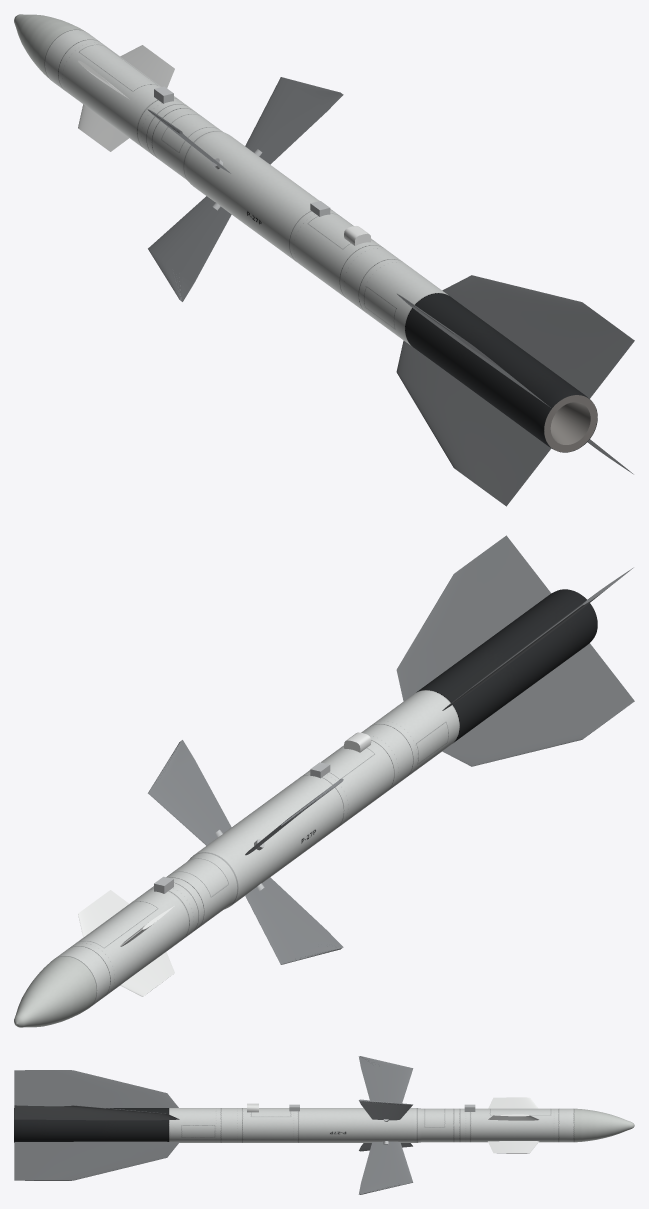
3 views of the same model, one above another, from view 1: azimuth 30°, elevation 25°; view 2: azimuth 150°, elevation 25°; view 3: azimuth 270°, elevation 25° (orthographic). The views are drawn at different scales.
Parts seen in each view (by area): view 1: body, tail_fin_2, tail_fin_0, control_fin_2, control_fin_0, nozzle, fwd_strake_2, fwd_strake_0, tail_fin_1; view 2: body, tail_fin_2, tail_fin_0, control_fin_0, control_fin_2, fwd_strake_2, fwd_strake_0, tail_fin_1; view 3: body, tail_fin_3, tail_fin_1, tail_fin_0, control_fin_3, control_fin_1, control_fin_0, fwd_strake_3, fwd_strake_1, fwd_strake_0.
Boxes of the visible parts, x1,y1,x2,y2 form: body: [14, 14, 597, 452]; tail_fin_2: [396, 340, 551, 506]; tail_fin_0: [442, 275, 634, 398]; control_fin_2: [148, 196, 231, 301]; control_fin_0: [245, 77, 343, 164]; nozzle: [544, 395, 597, 452]; fwd_strake_2: [78, 104, 128, 151]; fwd_strake_0: [120, 45, 174, 87]; tail_fin_1: [397, 293, 550, 407]; body: [14, 589, 597, 1027]; tail_fin_2: [442, 643, 634, 766]; tail_fin_0: [396, 535, 551, 701]; control_fin_0: [148, 740, 231, 845]; control_fin_2: [245, 877, 343, 964]; fwd_strake_2: [120, 951, 174, 996]; fwd_strake_0: [78, 890, 128, 937]; tail_fin_1: [442, 567, 633, 710]; body: [14, 1108, 634, 1142]; tail_fin_3: [14, 1141, 179, 1180]; tail_fin_1: [14, 1070, 178, 1107]; tail_fin_0: [14, 1104, 179, 1120]; control_fin_3: [358, 1141, 413, 1194]; control_fin_1: [358, 1056, 413, 1103]; control_fin_0: [359, 1099, 412, 1120]; fwd_strake_3: [488, 1141, 539, 1153]; fwd_strake_1: [488, 1097, 538, 1108]; fwd_strake_0: [488, 1114, 539, 1120].
Bounding box in the file's own units: 0.6916 × 0.6916 × 4.08.
Materials: 7 (1 with a texture image).
